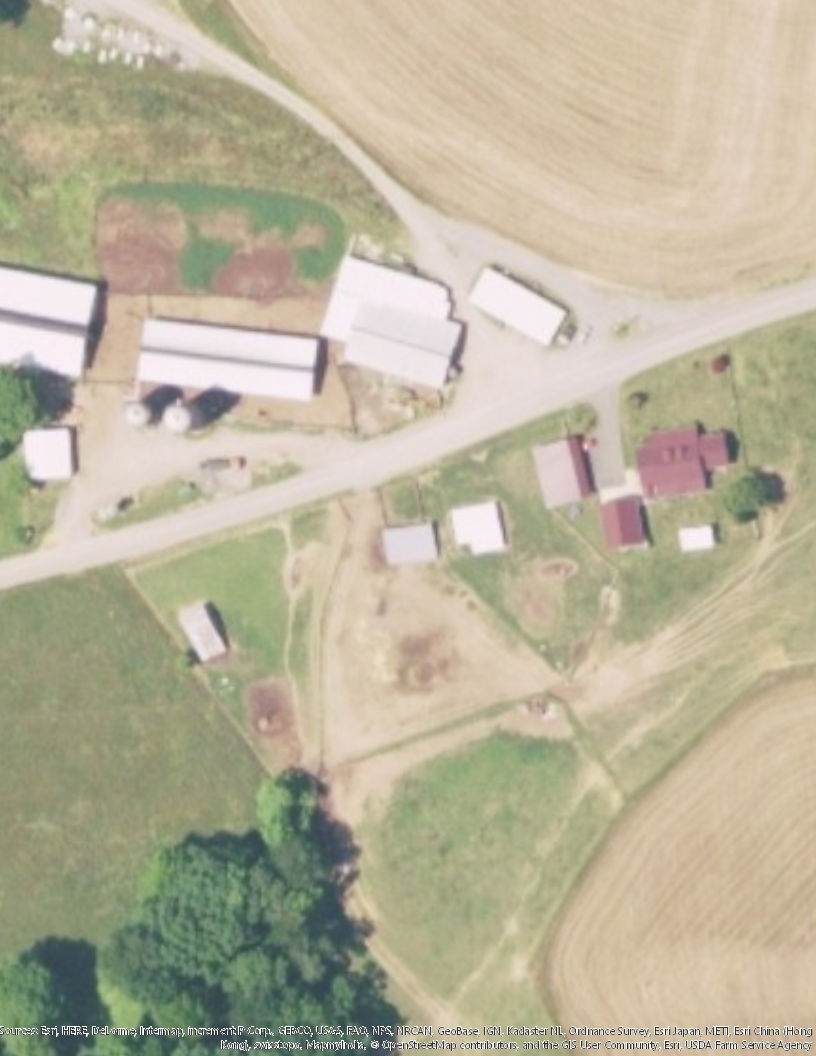cafo: (314, 248, 465, 391), (133, 313, 329, 408), (1, 260, 114, 381), (463, 264, 574, 350)
